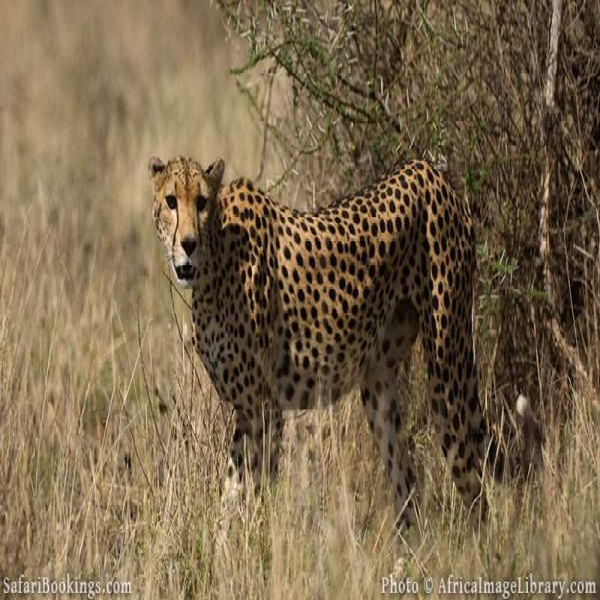Cheetah: (142, 149, 492, 542)
